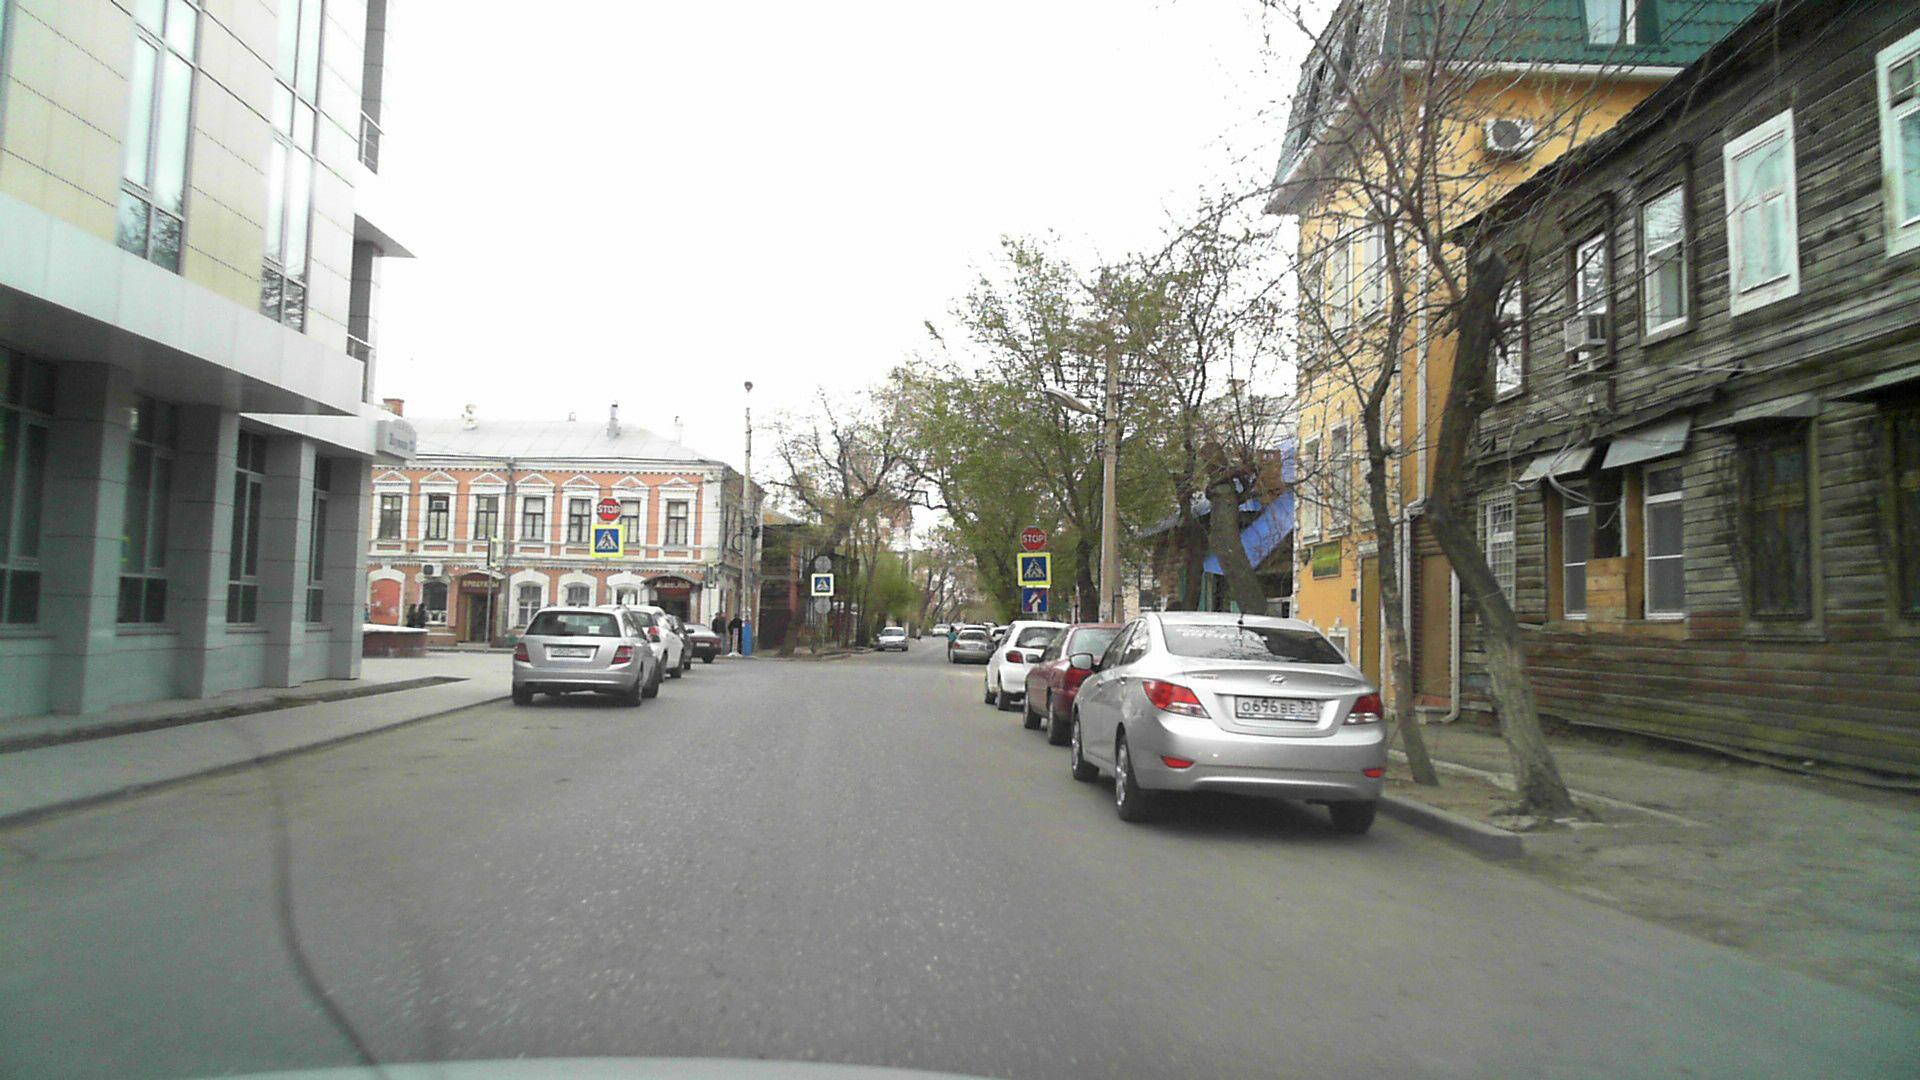2_5: (593, 495, 621, 522), (1021, 525, 1048, 550)
5_19_1: (1021, 555, 1047, 583), (708, 566, 715, 585)
5_19_2: (595, 527, 620, 554), (814, 576, 831, 592)
5_6: (1022, 587, 1048, 613)
